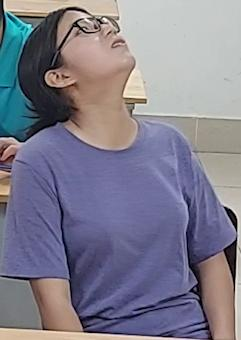Turning_Around: (5, 4, 238, 324)
